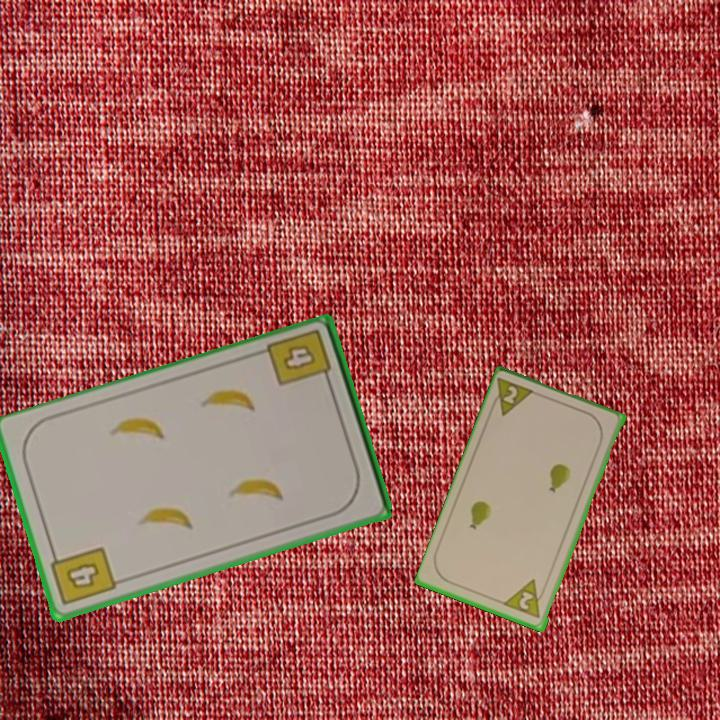2p: (486, 375, 539, 420), (515, 588, 537, 613)
4b: (47, 543, 119, 609), (264, 326, 335, 390)
